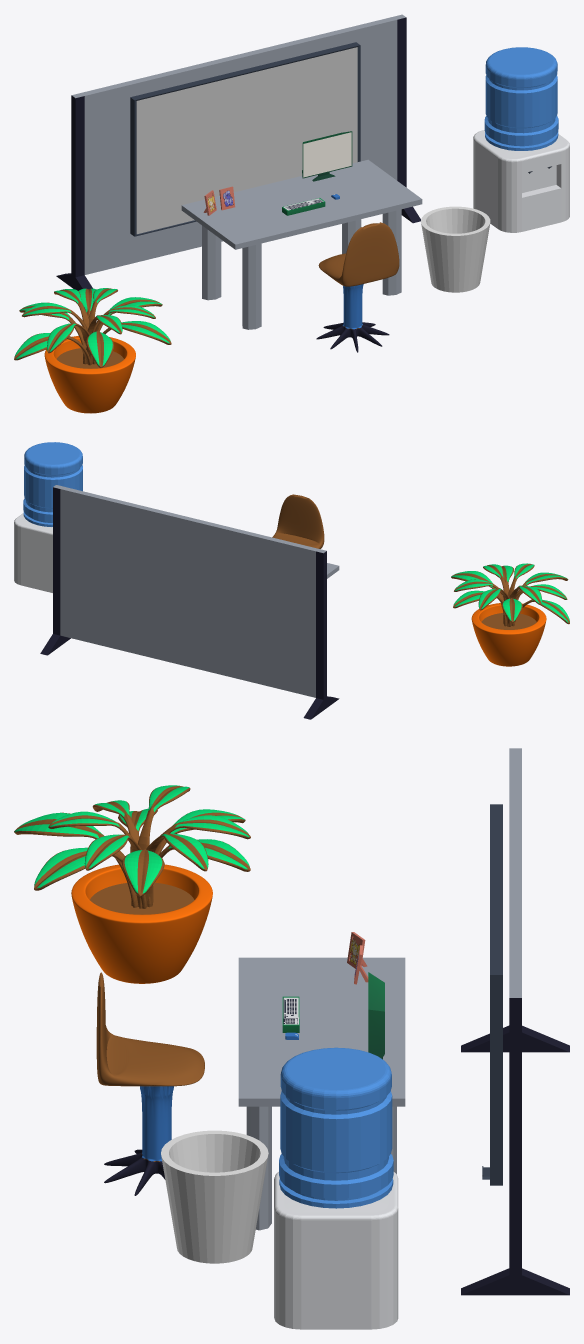
Rendered from office_attire.fbx.
The picture shows the model from 3 angles, top to bottom: view 1: azimuth 30°, elevation 25°; view 2: azimuth 150°, elevation 25°; view 3: azimuth 270°, elevation 25°; orthographic projection. The views are drawn at different scales.
Parts seen in each view (by area): view 1: whiteboard, divider, Cube.001, table, Cube, paperbin, Circle, monitor, Plane.005, Plane, Plane.004, DIRT (+2 smaller); view 2: divider, Cube.001, Circle, Cube, DIRT, Plane.001, Plane.003, Plane, Plane.002; view 3: Cube.001, table, paperbin, divider, Circle, Cube, whiteboard, DIRT, Plane.003, Plane.004, Plane.005, monitor (+6 smaller).
Boxes of the visible parts, x1,y1,x2,y2 form: whiteboard: [130, 42, 360, 236]; divider: [56, 14, 420, 290]; Cube.001: [473, 47, 569, 232]; table: [181, 159, 422, 329]; Cube: [316, 222, 399, 352]; paperbin: [421, 206, 490, 292]; Circle: [44, 336, 135, 413]; monitor: [302, 131, 352, 181]; Plane.005: [83, 330, 114, 367]; Plane: [14, 333, 90, 365]; Plane.004: [89, 321, 171, 365]; DIRT: [56, 348, 123, 368]; divider: [40, 485, 339, 719]; Cube.001: [14, 442, 82, 592]; Circle: [471, 603, 546, 666]; Cube: [272, 494, 324, 548]; DIRT: [481, 613, 536, 629]; Plane.001: [501, 598, 522, 625]; Plane.003: [451, 571, 506, 626]; Plane: [507, 599, 569, 626]; Plane.002: [453, 590, 511, 626]; Cube.001: [274, 1047, 398, 1329]; table: [238, 957, 405, 1230]; paperbin: [161, 1130, 268, 1263]; divider: [461, 748, 569, 1295]; Circle: [71, 864, 212, 983]; Cube: [96, 972, 204, 1195]; whiteboard: [482, 804, 502, 1185]; DIRT: [90, 882, 194, 914]; Plane.003: [122, 849, 164, 906]; Plane.004: [34, 847, 146, 908]; Plane.005: [14, 812, 137, 907]; monitor: [368, 972, 384, 1059].
Size of the model in its own units: 1294 by 400 by 667.
